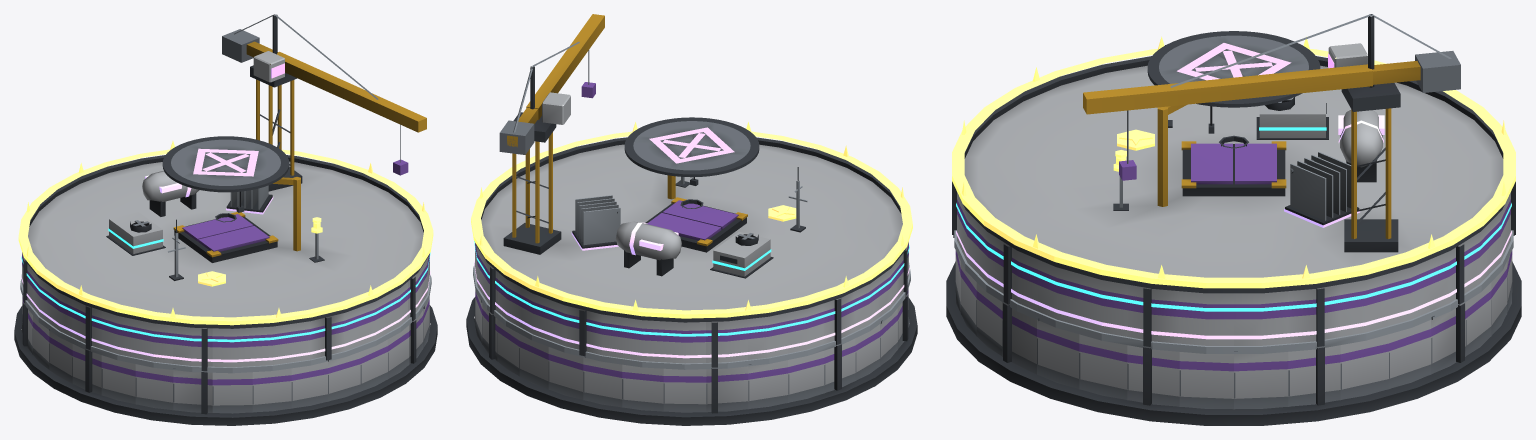
The model's file is storehouse_s_far.glb.
The picture shows the model from 3 angles, left to right: view 1: azimuth 30°, elevation 25°; view 2: azimuth 150°, elevation 25°; view 3: azimuth 270°, elevation 25°; orthographic projection. The views are drawn at different scales.
Parts seen in each view (by area): view 1: Roof, Base, L5, L4, L3, L2; view 2: Roof, Base, L5, L4, L3, L2; view 3: Roof, Base, L5, L4, L3, L2.
Boxes of the visible parts, left/top/right/bottom form: Roof: left=22, top=14, right=429, bottom=371; Base: left=14, top=296, right=437, bottom=425; L5: left=18, top=141, right=433, bottom=325; L4: left=21, top=171, right=430, bottom=362; L3: left=21, top=212, right=430, bottom=342; L2: left=20, top=219, right=431, bottom=373; Roof: left=475, top=14, right=908, bottom=367; Base: left=466, top=288, right=917, bottom=425; L5: left=471, top=122, right=912, bottom=318; L4: left=474, top=195, right=909, bottom=358; L3: left=474, top=199, right=909, bottom=336; L2: left=473, top=167, right=910, bottom=369; Roof: left=952, top=14, right=1515, bottom=346; Base: left=946, top=235, right=1521, bottom=425; L5: left=952, top=36, right=1515, bottom=288; L4: left=956, top=110, right=1511, bottom=339; L3: left=956, top=94, right=1511, bottom=311; L2: left=954, top=45, right=1513, bottom=353.
Size of the model in its own units: 11.74 by 8.03 by 11.74.
